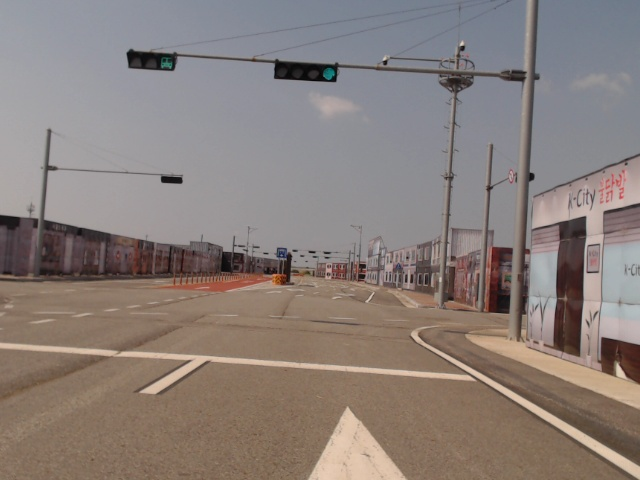straight_green_4: (276, 61, 338, 82)
